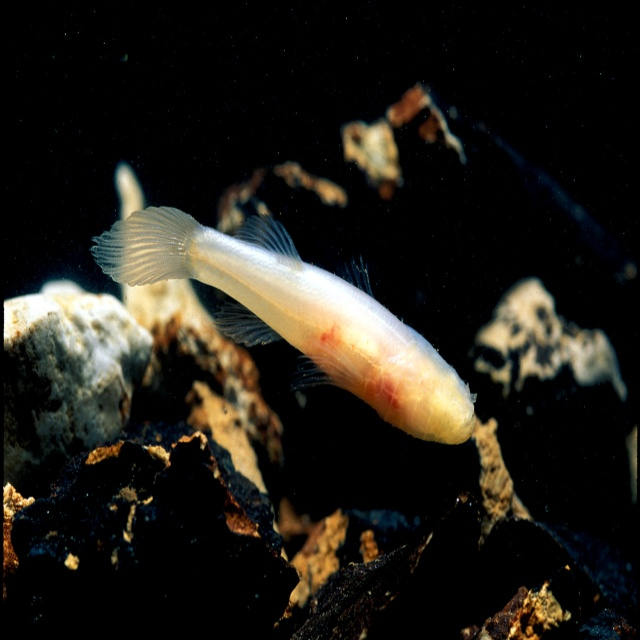Fish: (94, 190, 468, 463)
